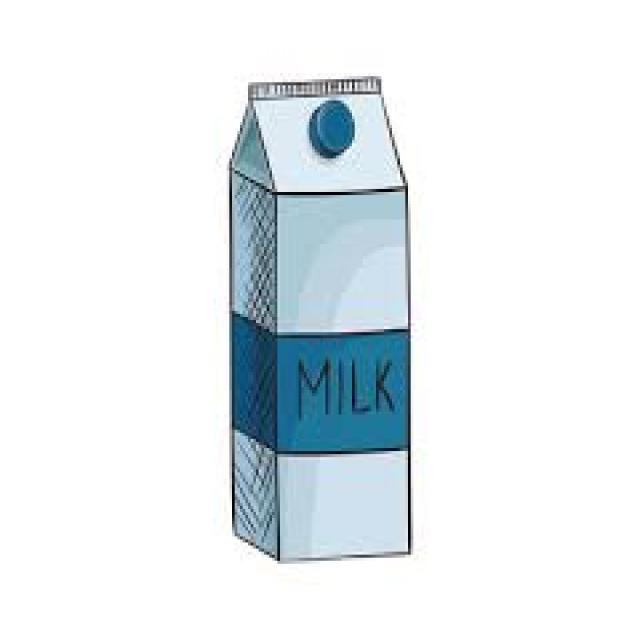non_white_jug: (205, 68, 435, 574)
